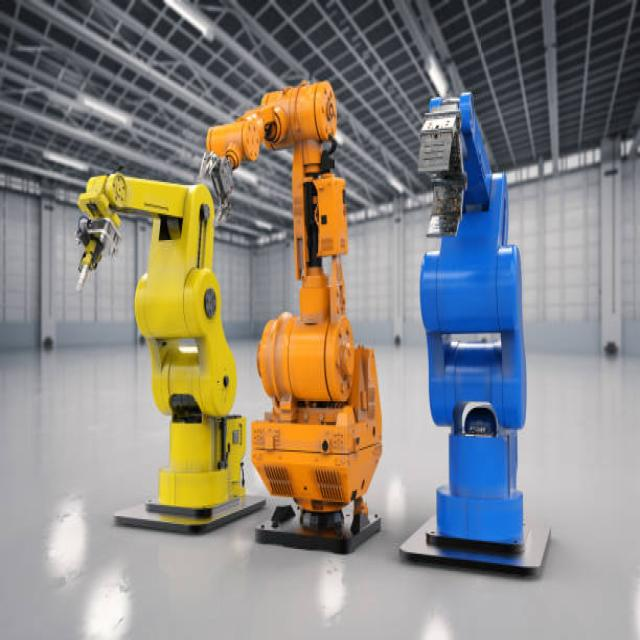Robotic-arm: (204, 73, 386, 551), (68, 164, 248, 528), (414, 84, 536, 566)
